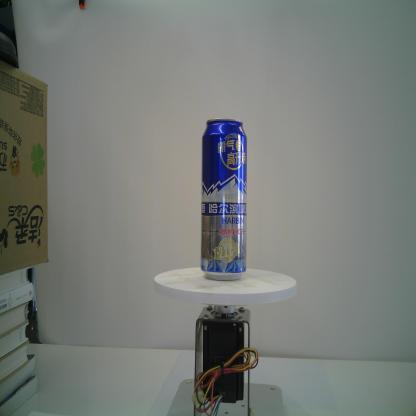Alcohol: (199, 115, 249, 282)
